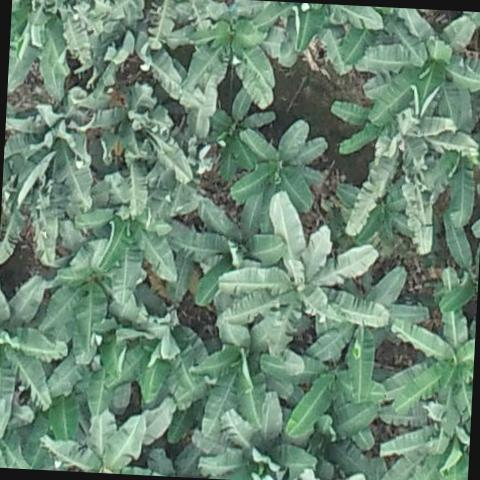Banana-plant: (214, 191, 392, 362), (326, 106, 478, 255), (302, 261, 428, 408), (70, 170, 190, 310), (355, 7, 480, 134), (83, 85, 202, 218), (161, 0, 286, 112), (188, 320, 304, 428), (2, 87, 104, 208), (40, 242, 137, 366), (256, 349, 386, 440), (184, 195, 283, 310), (0, 275, 67, 441), (199, 390, 317, 480), (104, 306, 206, 404), (249, 0, 379, 76), (388, 311, 476, 416), (232, 126, 326, 219), (38, 410, 166, 476), (382, 400, 471, 480), (200, 86, 276, 177), (7, 0, 74, 100), (329, 179, 414, 248)
